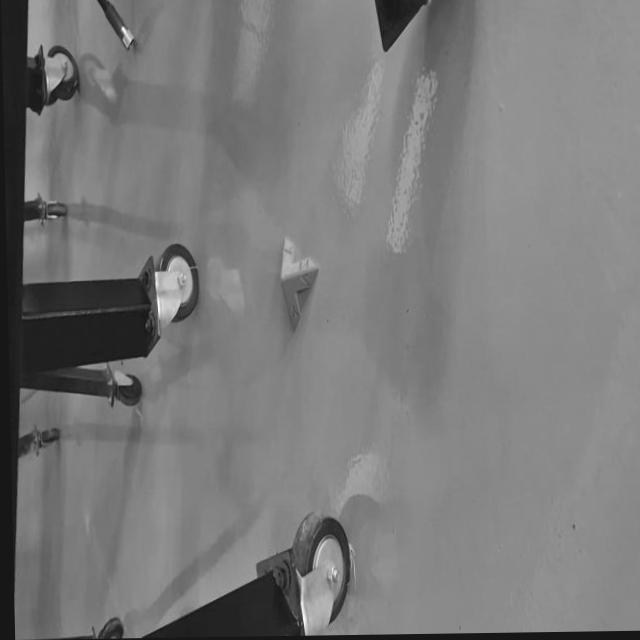eje: (277, 233, 321, 334)
